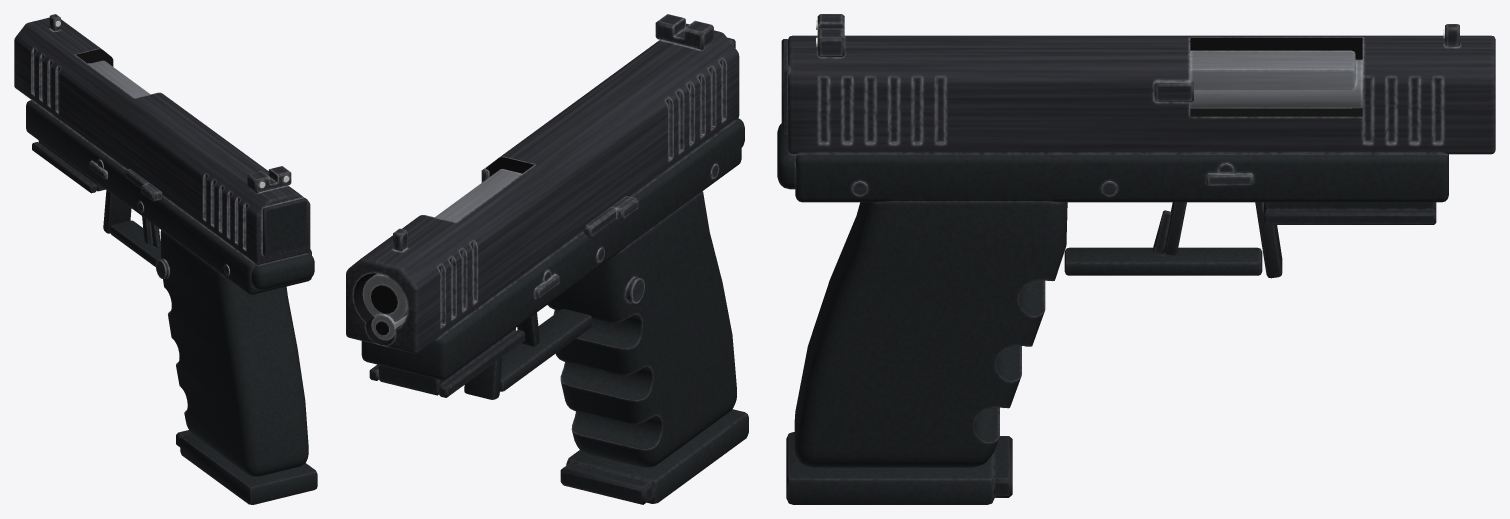
Rendered from pistol.glb.
3 views of the same model, side by side, from view 1: azimuth 30°, elevation 25°; view 2: azimuth 150°, elevation 25°; view 3: azimuth 270°, elevation 25° (orthographic). The views are drawn at different scales.
Visible parts, largest first — view 1: Pistol; view 2: Pistol; view 3: Pistol.
Part boxes in pixels (x1,y1,x2,y2): Pistol: [14, 14, 317, 504]; Pistol: [346, 14, 748, 504]; Pistol: [777, 14, 1495, 504].
Size of the model in its own units: 0.0357 by 0.1405 by 0.2.
Materials: 1 (1 with a texture image).
